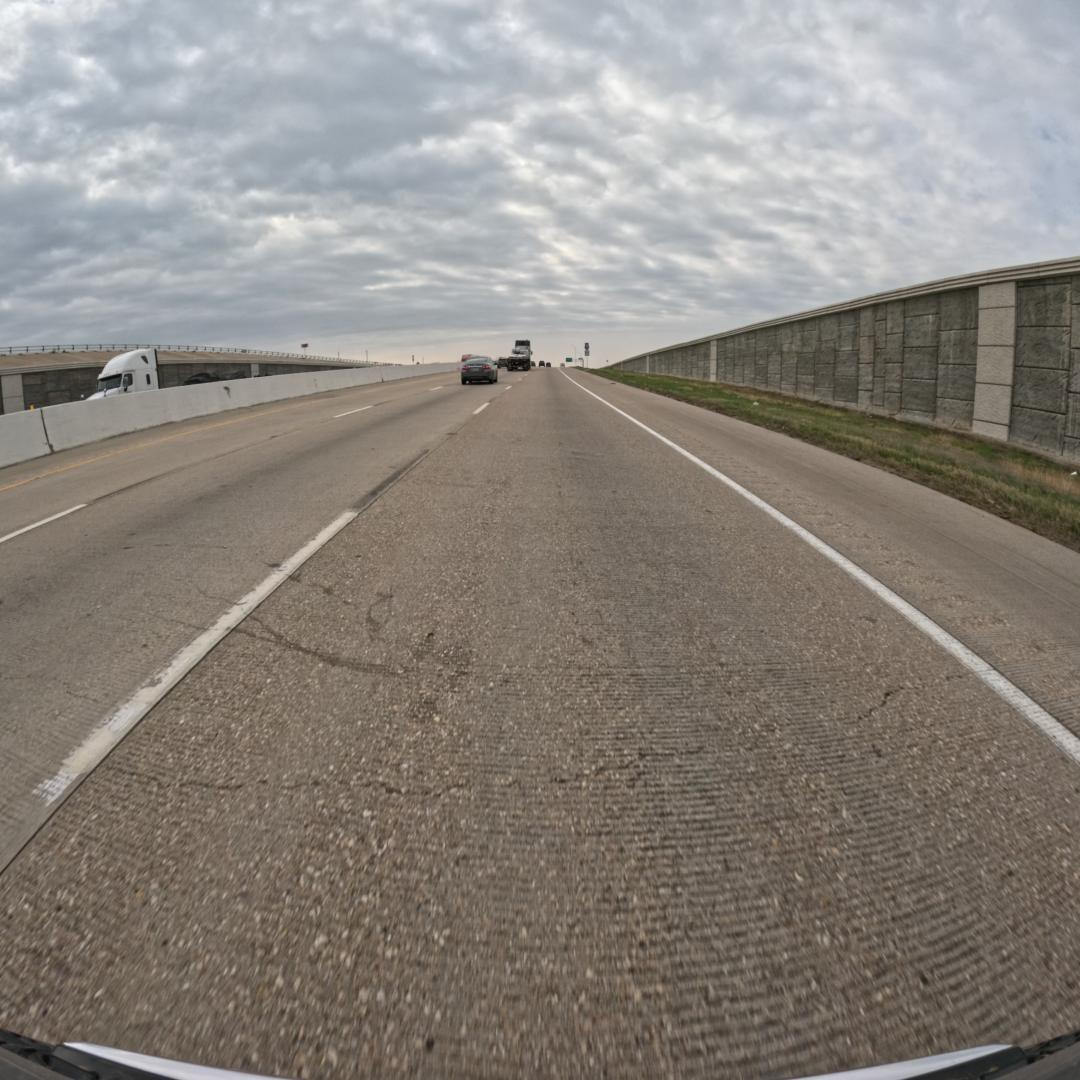lane0: (0, 372, 1080, 1077)
lane1: (0, 384, 507, 870)
